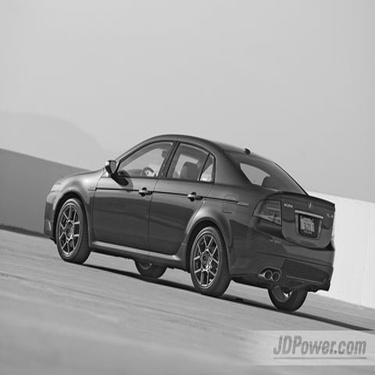car: (42, 133, 338, 319)
